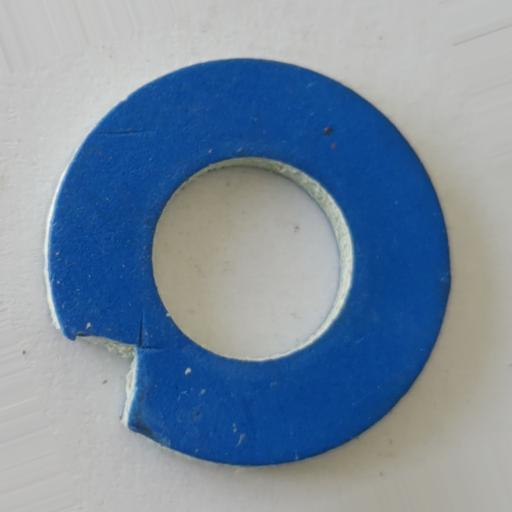defect: (65, 332, 139, 429)
